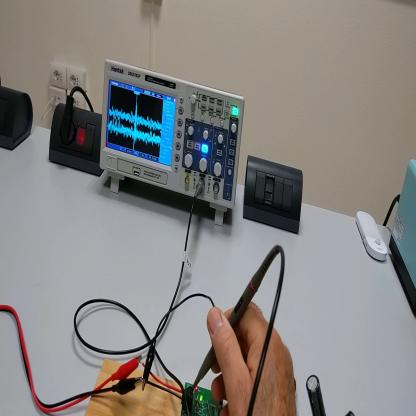hand: (207, 302, 298, 413)
high voltage board: (139, 360, 355, 416)
oscilloscope: (100, 54, 248, 225)
oscilloscope probe tip: (192, 244, 279, 391)
socket: (48, 104, 105, 179), (2, 85, 36, 152)
welder station: (389, 161, 415, 321)
working area: (86, 352, 182, 415)
